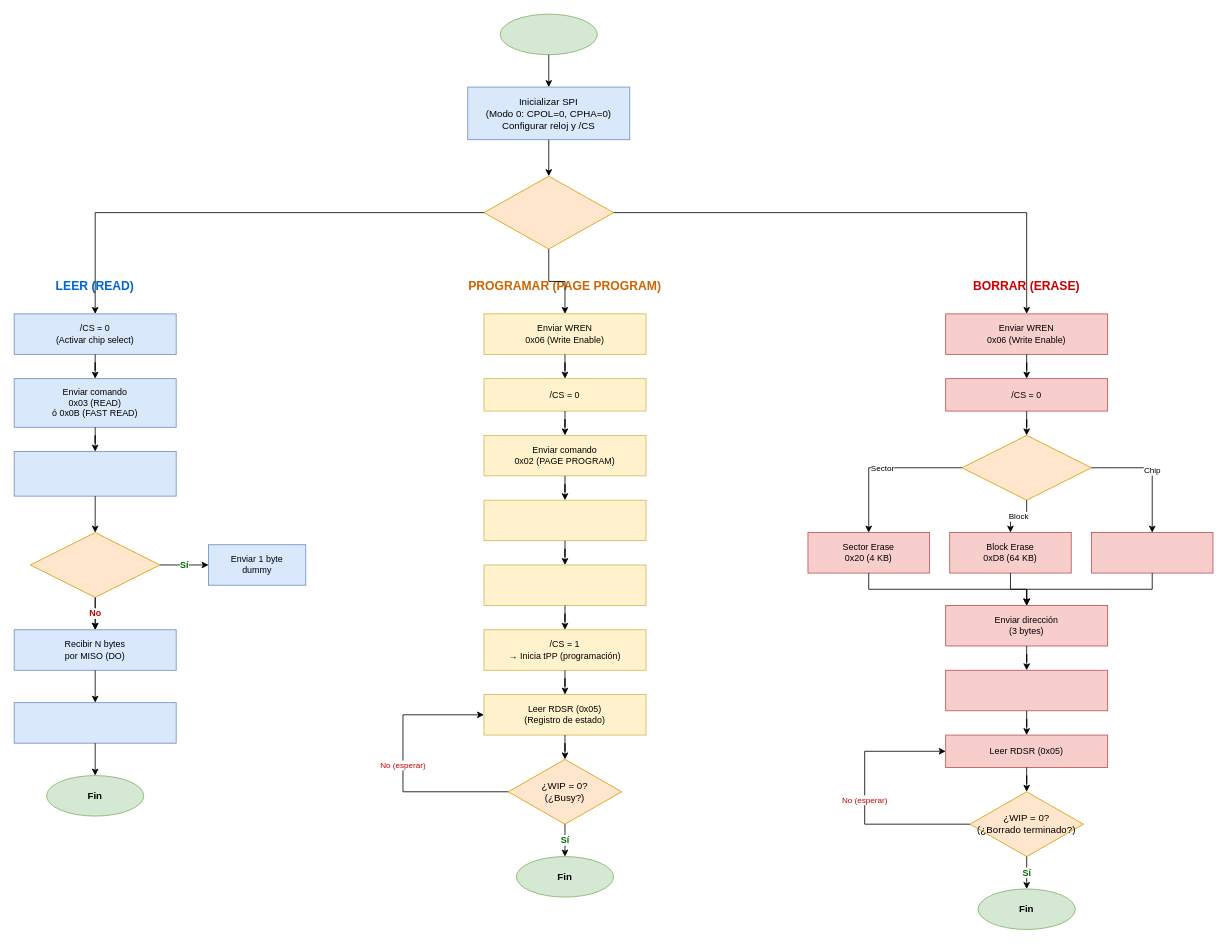
The diagram is 1227 pixels wide and 944 high, and some of its shapes have lost their labels. The centre of each missing label's shape, as x and y in pixels:
"/CS = 1 (Desactivar)" goes at pixel 94 722.
"/CS = 1 → Inicia tSE / tBE / tCE" goes at pixel 1026 690.
"Chip Erase 0xC7 (todo)" goes at pixel 1152 552.
"Enviar dirección (3 bytes / 24 bits)" goes at pixel 564 520.
"Enviar dirección 24 bits A23-A16 | A15-A8 | A7-A0" goes at pixel 94 473.
"Enviar hasta 256 bytes por MOSI (DI)" goes at pixel 564 584.
"Inicio" goes at pixel 548 34.
"¿Fast Read? (0x0B)" goes at pixel 95 564.
"¿Qué operación se requiere?" goes at pixel 548 212.
"¿Tipo de borrado?" goes at pixel 1026 467.
